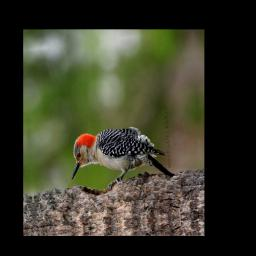Woodpecker: (65, 115, 181, 194)
